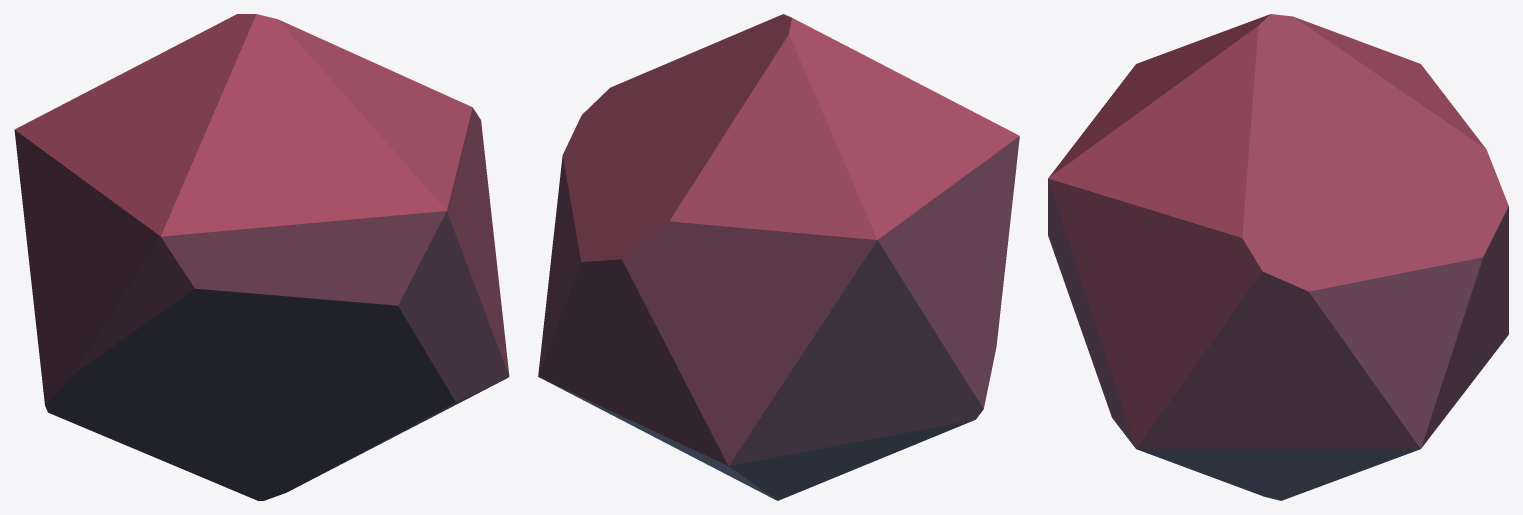
Rendered from geology-crystals-gemstone_v2.glb.
3 renders of one model, left to right at view 1: azimuth 30°, elevation 25°; view 2: azimuth 150°, elevation 25°; view 3: azimuth 270°, elevation 25°, orthographic. The views are drawn at different scales.
Parts seen in each view (by area): view 1: gemstone_v2; view 2: gemstone_v2; view 3: gemstone_v2.
Part boxes in pixels (x1,y1,x2,y2): gemstone_v2: (14, 14, 509, 500); gemstone_v2: (538, 14, 1019, 500); gemstone_v2: (1048, 14, 1508, 500).
Size of the model in its own units: 18.65 by 20.74 by 18.01.
